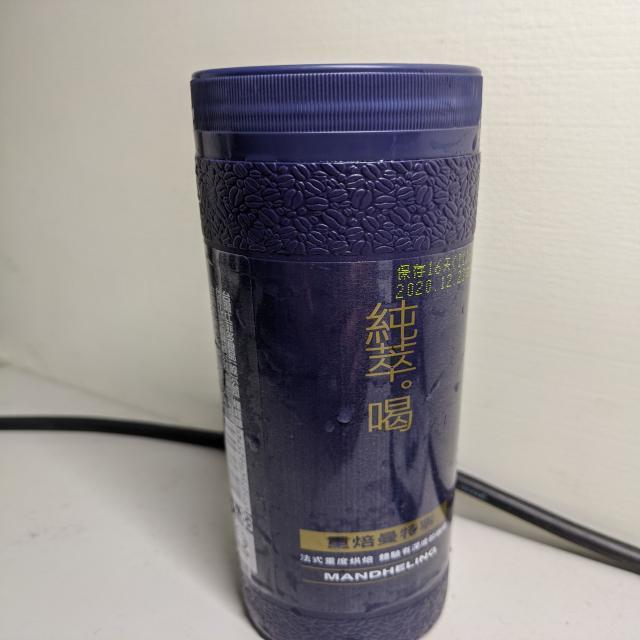Plastic: (187, 59, 480, 640)
